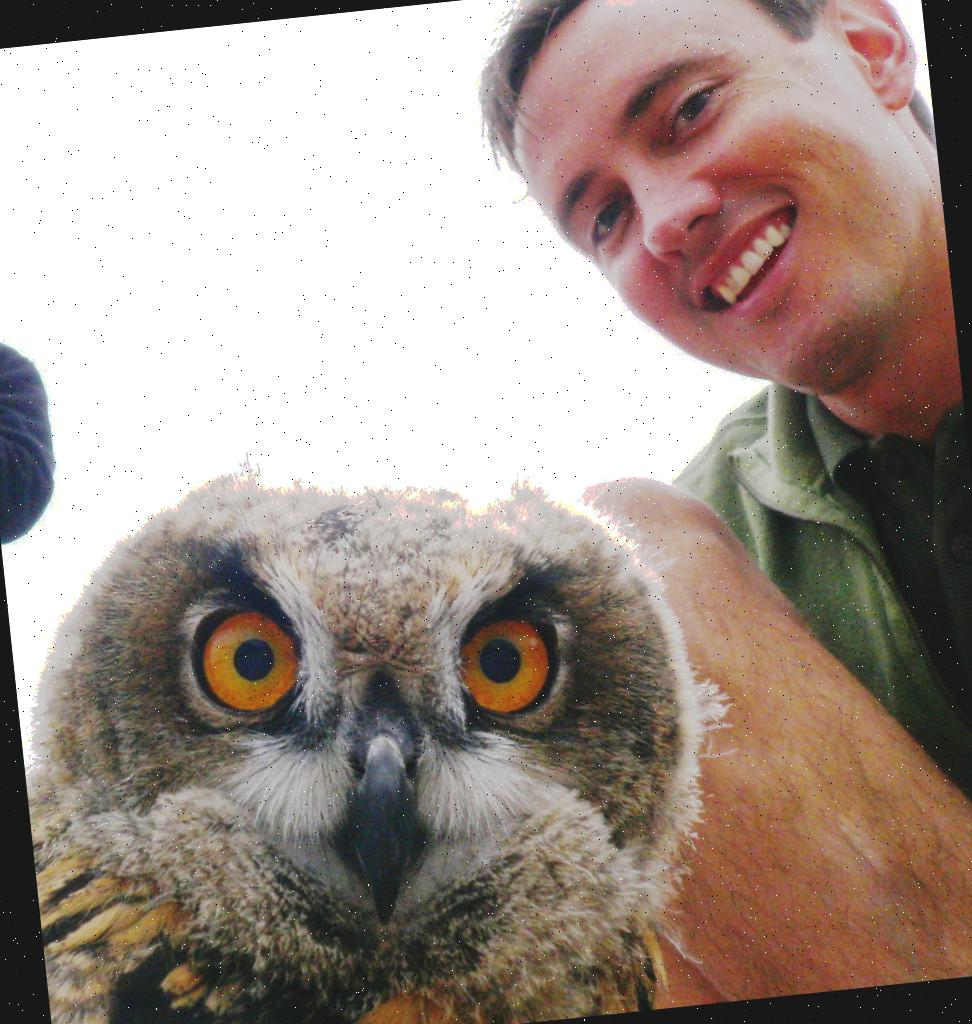Owl: (0, 415, 739, 1024)
